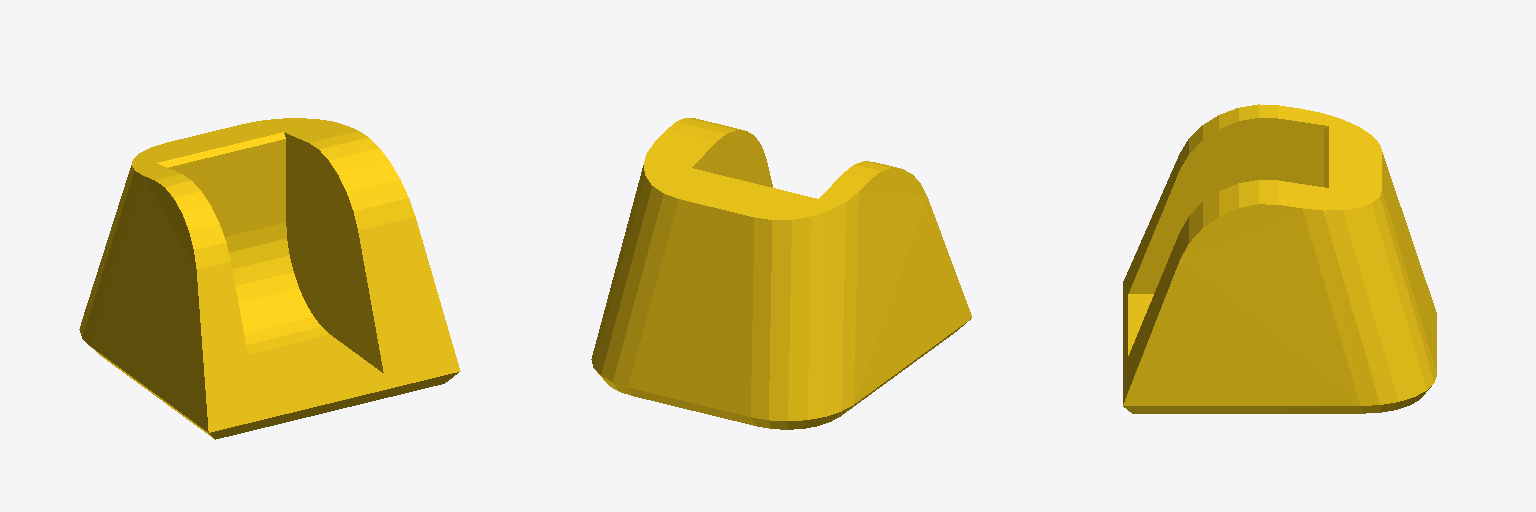
Rendered from turret.obj.
The picture shows the model from 3 angles: view 1: azimuth 30°, elevation 25°; view 2: azimuth 150°, elevation 25°; view 3: azimuth 270°, elevation 25°; orthographic projection.
Visible parts, largest first — view 1: Turret; view 2: Turret; view 3: Turret.
Boxes of the visible parts, box(x1,y1,x2,y2) form: Turret: box(79, 118, 460, 439); Turret: box(591, 118, 971, 429); Turret: box(1123, 104, 1436, 413).
Size of the model in its own units: 0.9879 by 0.7616 by 1.07.